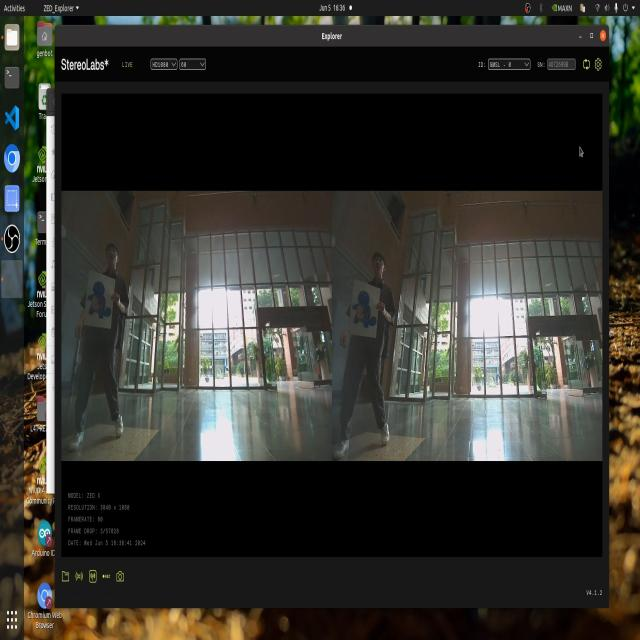blue: (345, 281, 376, 330), (96, 289, 116, 330)
